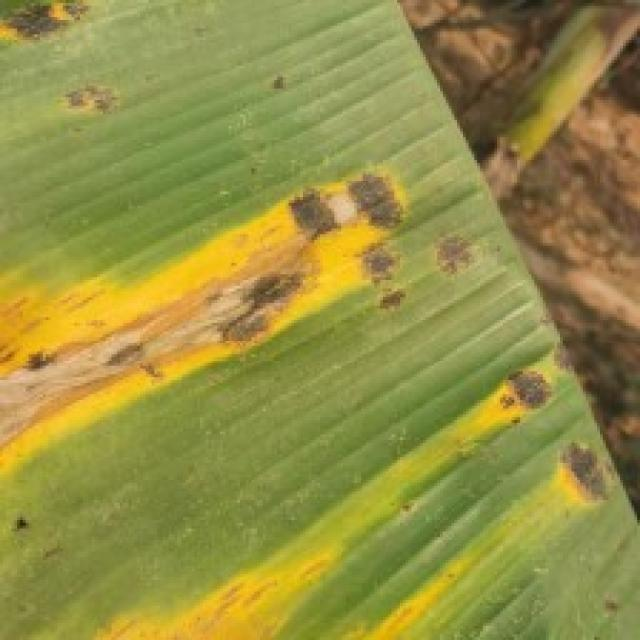Downey_mildrew: (0, 159, 632, 640), (0, 0, 183, 129)
